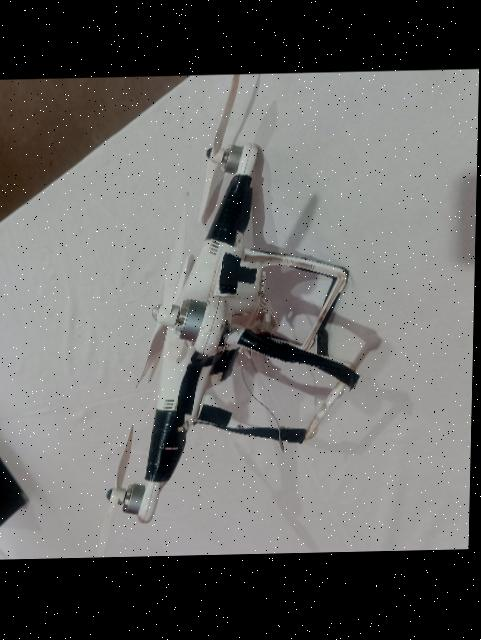drone: (97, 138, 372, 531)
